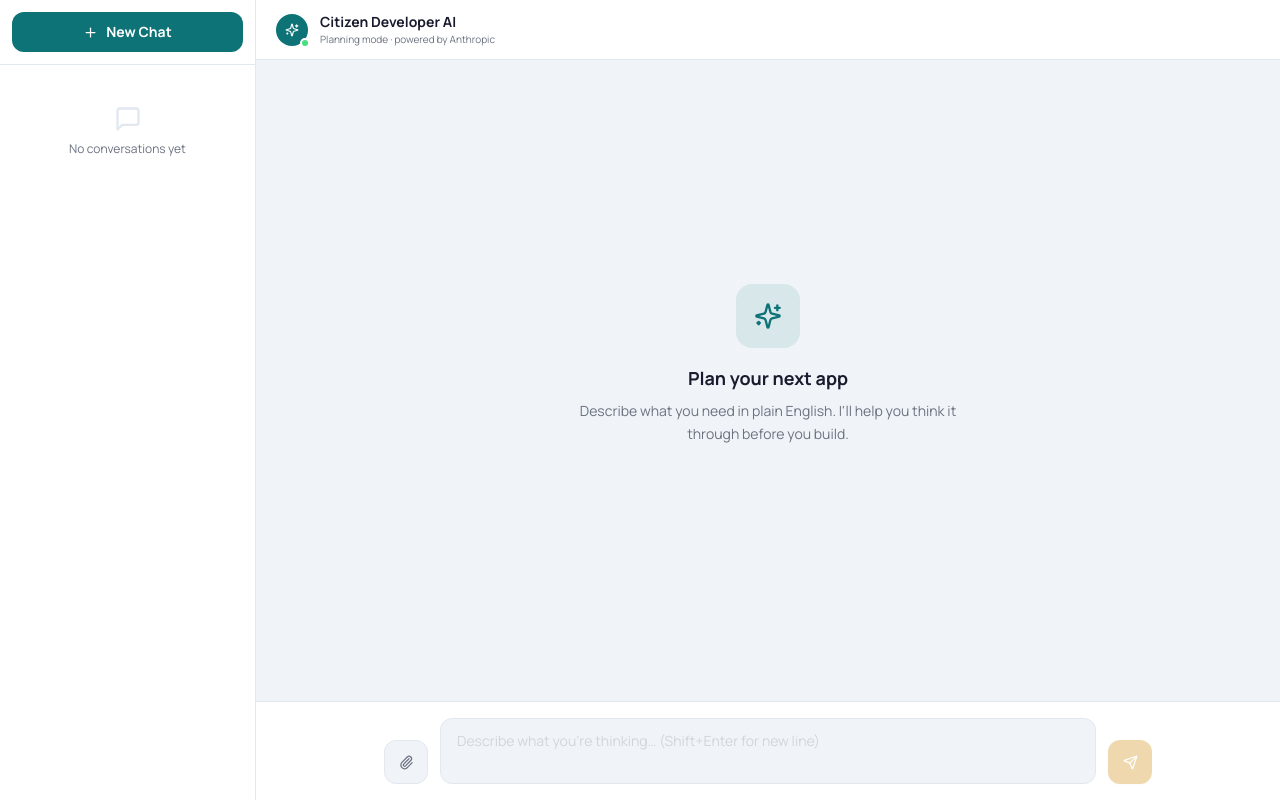
Test: ChatPage — send-path guards (U10) › aborts the send before streaming when the user-turn persist fails (no orphan assistant turn)
In the text box with placeholder "Describe what you're thinking… (Shift+Enter for new line)": (768, 751) top-left (440, 718), bottom-right (1096, 784), type "hello"
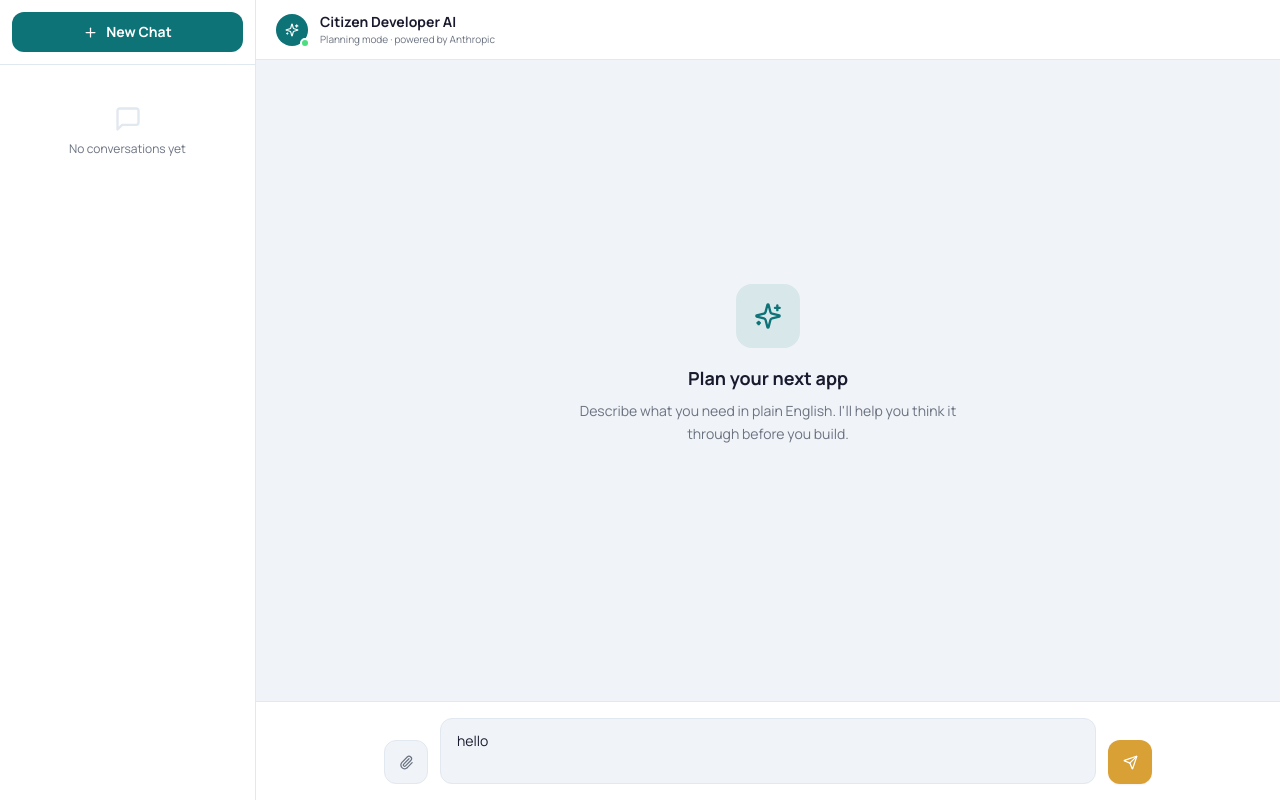
Press Enter in the text box with placeholder "Describe what you're thinking… (Shift+Enter for new line)", box top-left (440, 718), bottom-right (1096, 784)
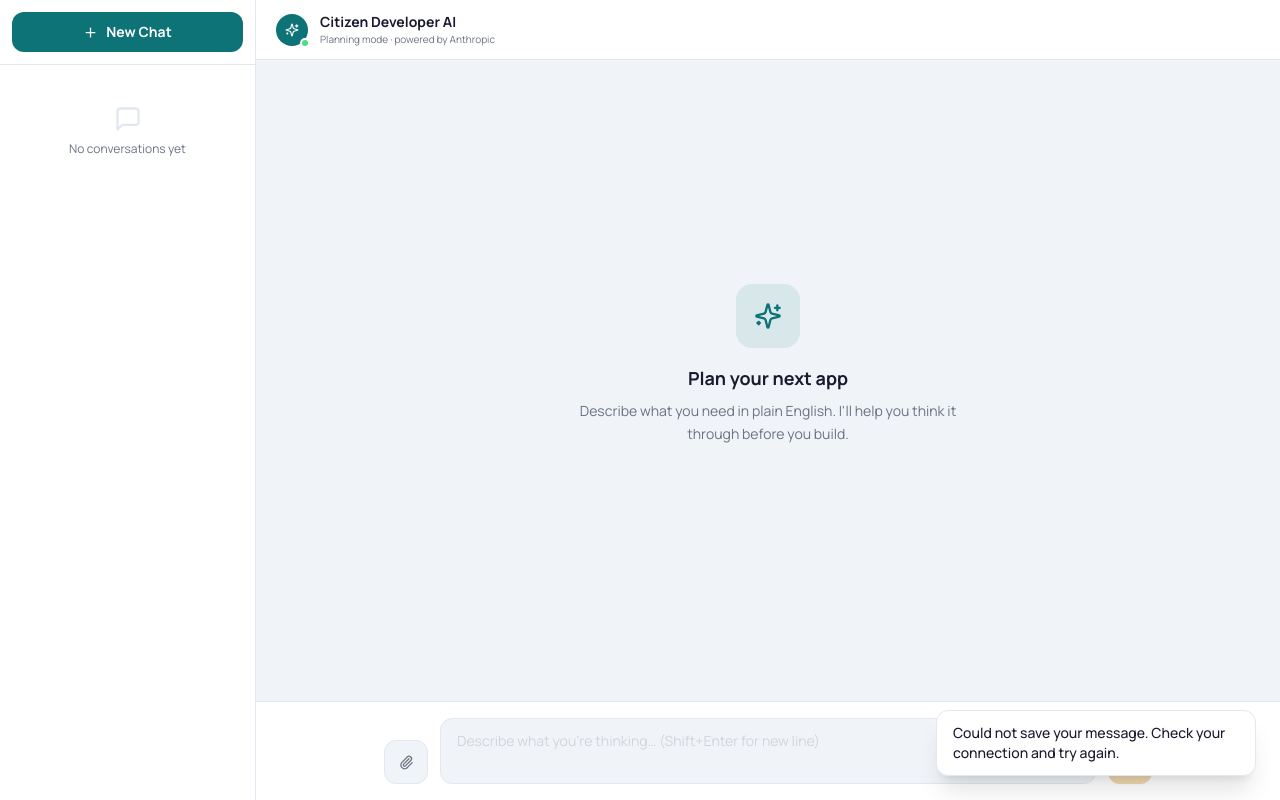
Check: the text "Could not save your message" is shown, box top-left (953, 723), bottom-right (1225, 762)
